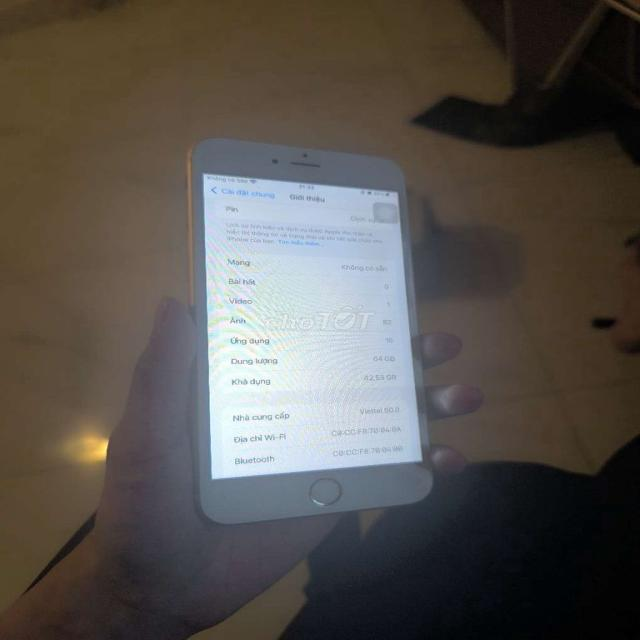gen_6: (189, 138, 443, 522)
